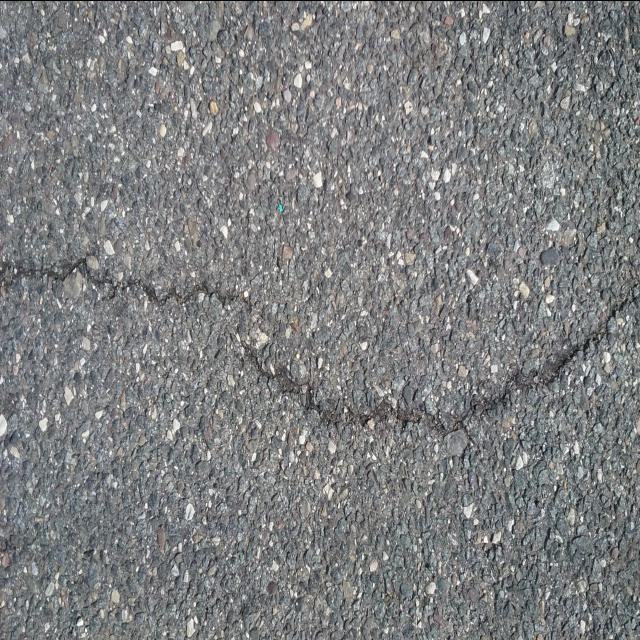Crack: (0, 244, 640, 433)
